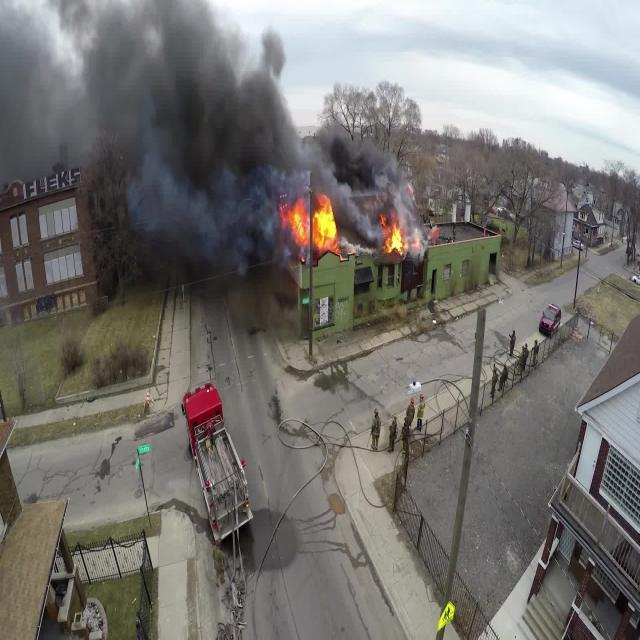Fire: (313, 195, 338, 252), (284, 198, 308, 254), (384, 219, 404, 254)
Smoke: (85, 11, 259, 220)
